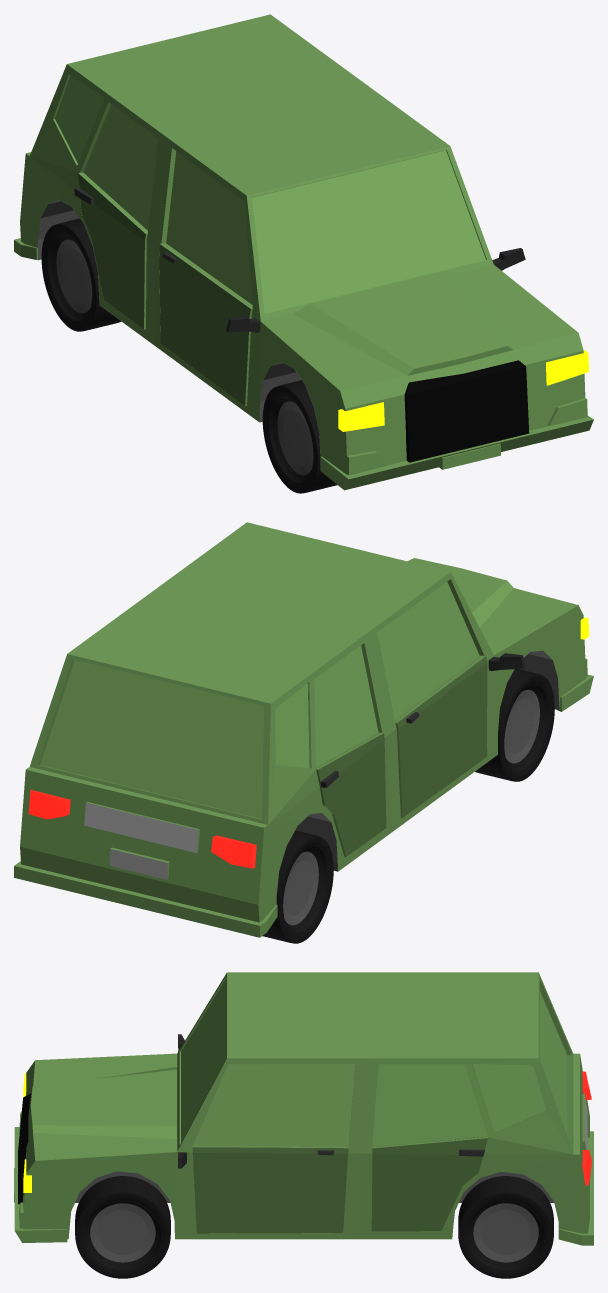
The model's file is car1-transformed.glb.
3 views of the same model, one above another, from view 1: azimuth 30°, elevation 25°; view 2: azimuth 150°, elevation 25°; view 3: azimuth 270°, elevation 25° (orthographic). The views are drawn at different scales.
Visible parts, largest first — view 1: SimpleBreakCar_Body_3, SimpleBreakCar_Body_Tire_BR_11, SimpleBreakCar_Body_Tire_FR_7; view 2: SimpleBreakCar_Body_3, SimpleBreakCar_Body_Tire_FR_7, SimpleBreakCar_Body_Tire_BR_11; view 3: SimpleBreakCar_Body_3, SimpleBreakCar_Body_Tire_FL_5, SimpleBreakCar_Body_Tire_BL_9.
Boxes of the visible parts, x1,y1,x2,y2 form: SimpleBreakCar_Body_3: (14,14,593,490); SimpleBreakCar_Body_Tire_BR_11: (41,218,121,331); SimpleBreakCar_Body_Tire_FR_7: (262,380,337,493); SimpleBreakCar_Body_3: (14,522,593,937); SimpleBreakCar_Body_Tire_FR_7: (475,669,554,781); SimpleBreakCar_Body_Tire_BR_11: (262,830,333,943); SimpleBreakCar_Body_3: (14,972,593,1245); SimpleBreakCar_Body_Tire_FL_5: (75,1176,170,1278); SimpleBreakCar_Body_Tire_BL_9: (458,1176,553,1278).
Size of what is drawn, in the model's own units: 2.1 by 1.66 by 4.1.
